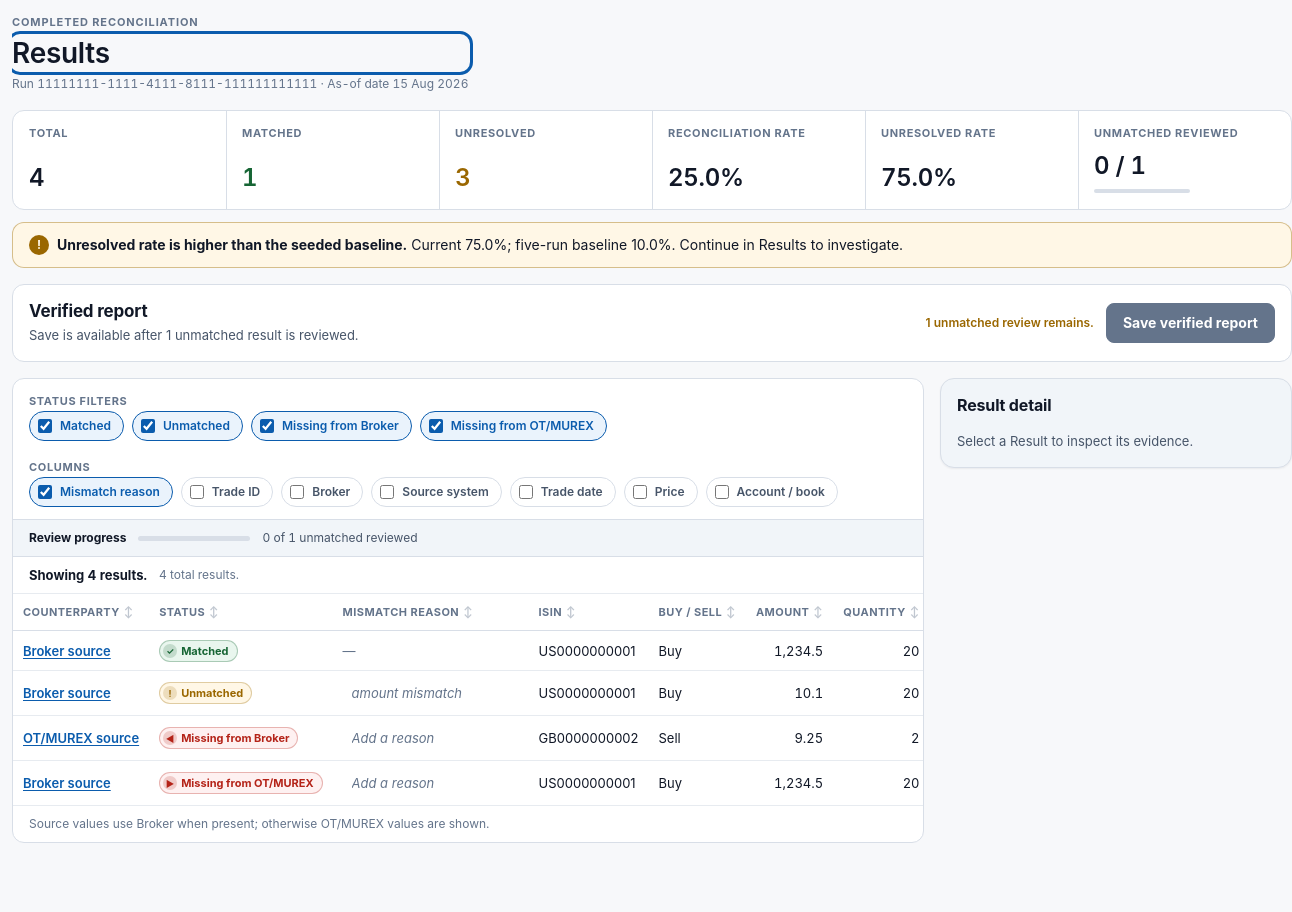
Test: Results workspace table › edits the mismatch reason in the grid, showing the engine finding until an analyst overrides it
In the field named "Mismatch reason for BRK-8": (430, 693) x1=342 y1=679 x2=518 y2=707, type "FX rate applied late"
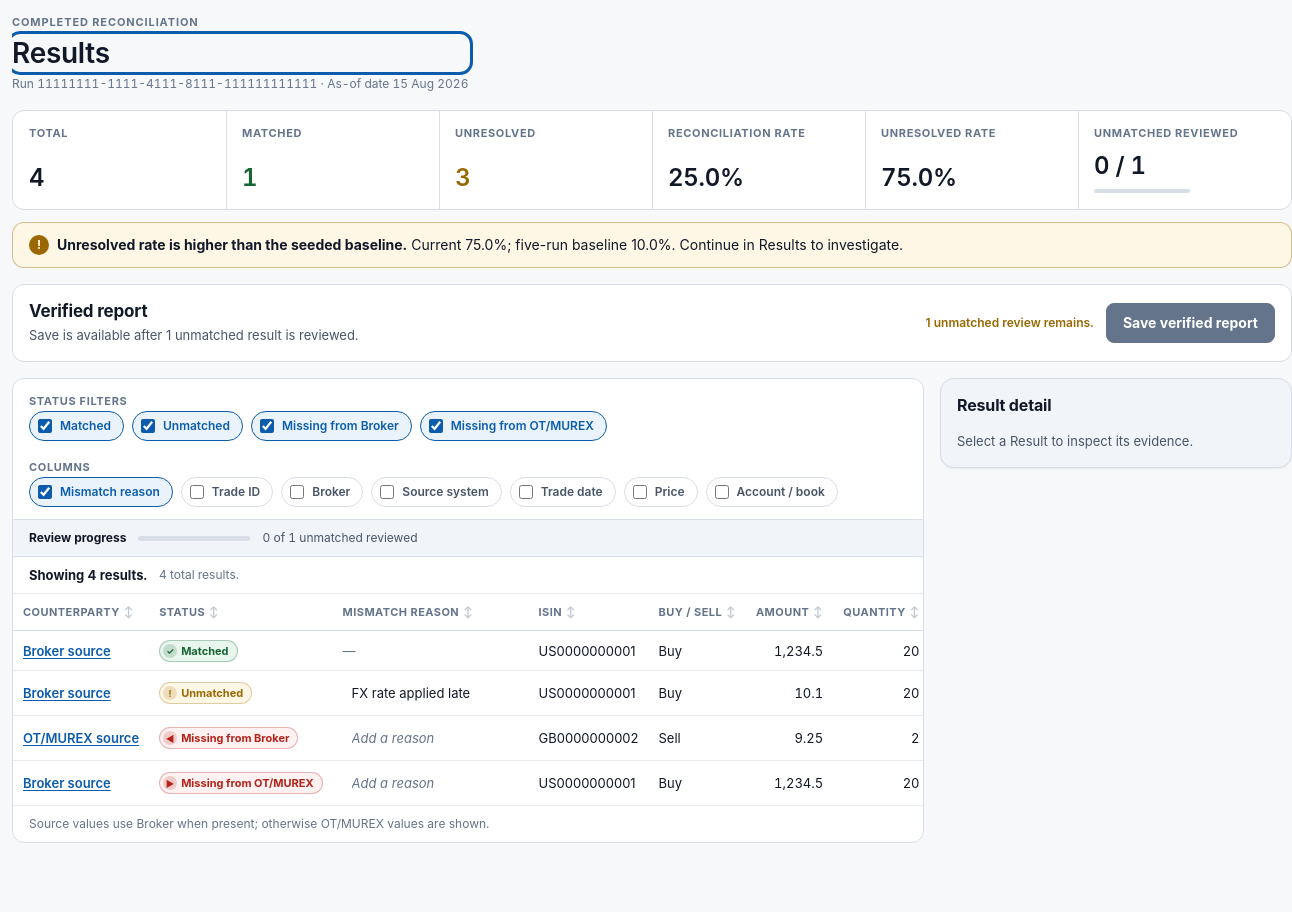
Leave the field named "Mismatch reason for BRK-8", box x1=342 y1=679 x2=518 y2=707
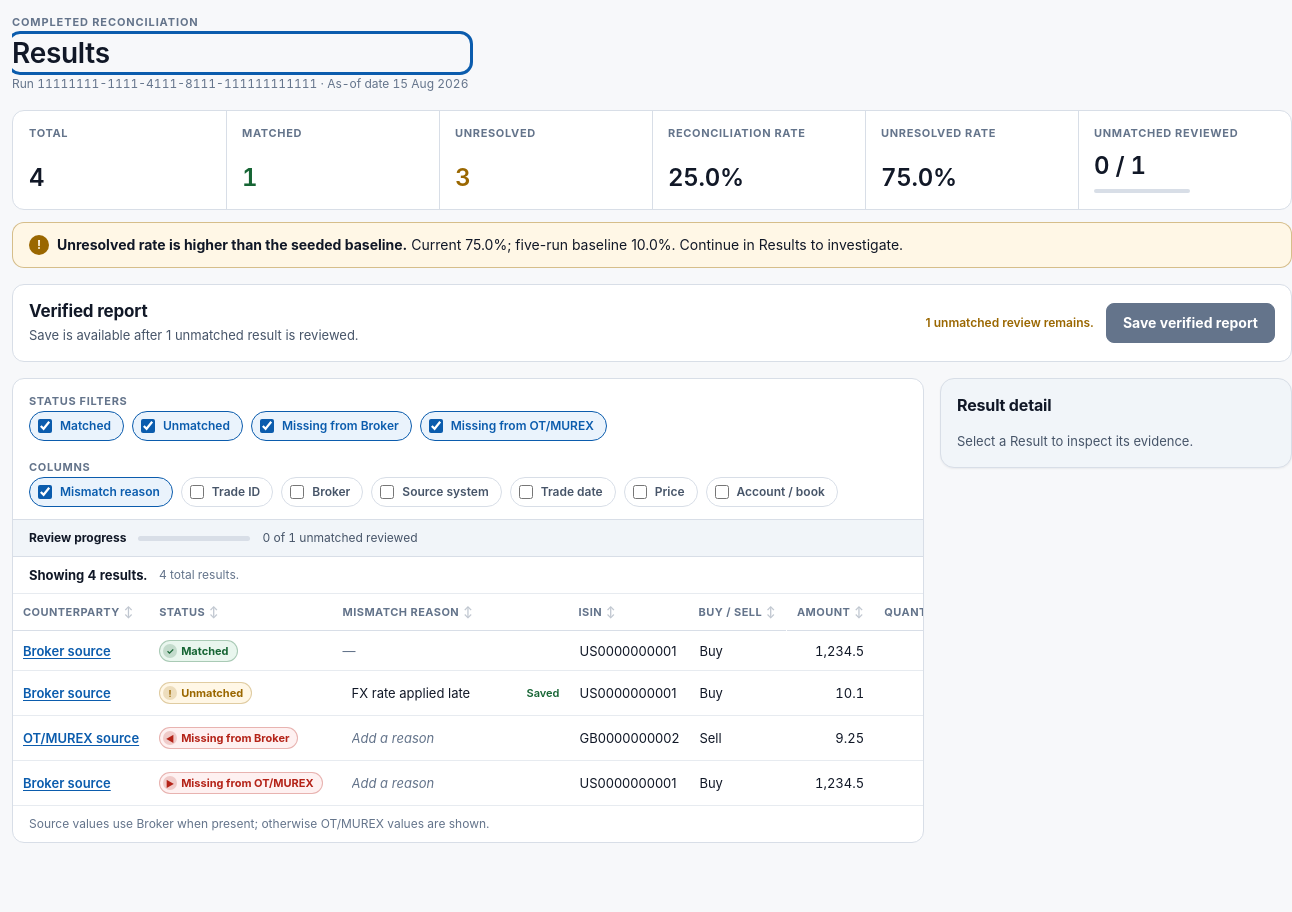
Expected: the text "Saved" is shown, x1=526 y1=683 x2=559 y2=703
